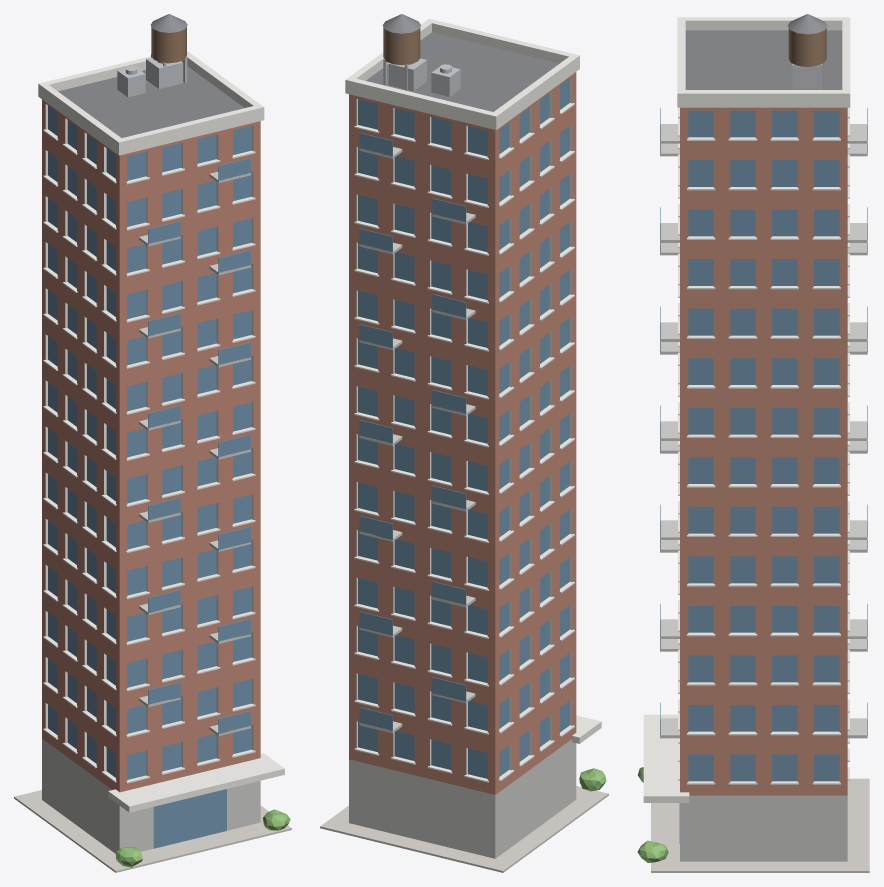
3 renders of one model, left to right at view 1: azimuth 30°, elevation 25°; view 2: azimuth 150°, elevation 25°; view 3: azimuth 270°, elevation 25°, orthographic. The views are drawn at different scales.
Parts seen in each view (by area): view 1: r_3_1_c; view 2: r_3_1_c; view 3: r_3_1_c.
Boxes of the visible parts, left/top/right/bottom form: r_3_1_c: left=14, top=14, right=291, bottom=872; r_3_1_c: left=320, top=14, right=608, bottom=872; r_3_1_c: left=637, top=14, right=869, bottom=872.
Bounding box in the file's own units: 12 × 50.42 × 12.74.
